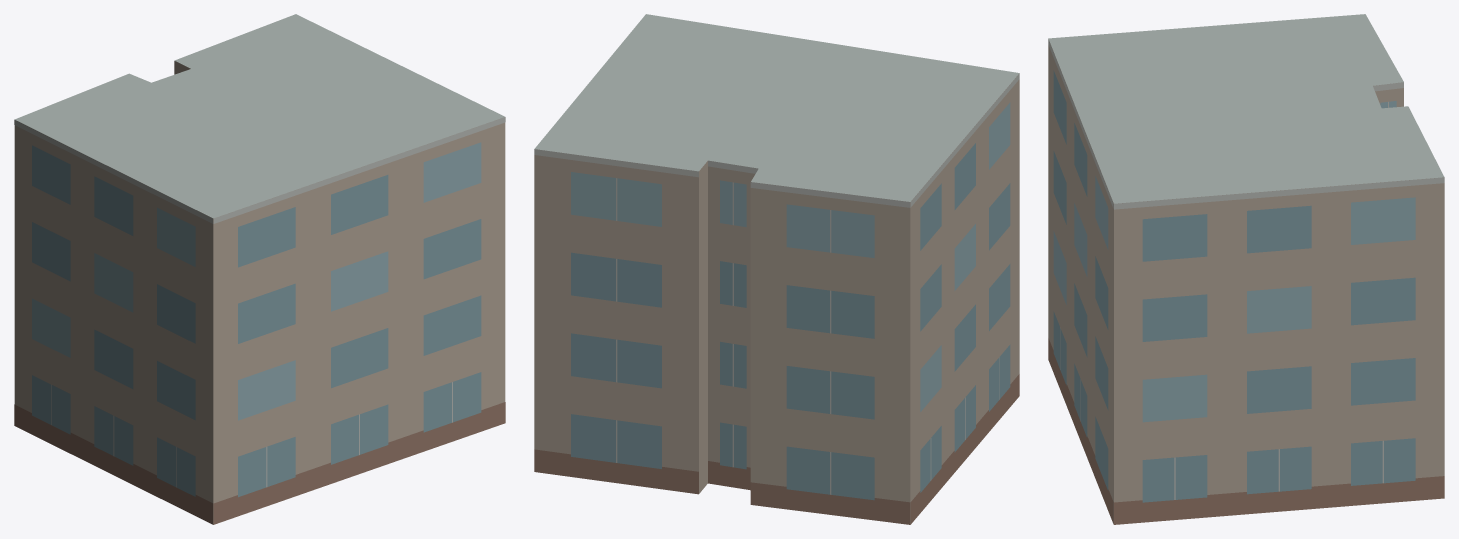
File: survey-upis-32989386.glb
3 views of the same model, side by side, from view 1: azimuth 30°, elevation 25°; view 2: azimuth 150°, elevation 25°; view 3: azimuth 270°, elevation 25° (orthographic). The views are drawn at different scales.
Visible parts, largest first — view 1: survey-upis-32989386.tmp; view 2: survey-upis-32989386.tmp; view 3: survey-upis-32989386.tmp.
Boxes of the visible parts, x1=… form: survey-upis-32989386.tmp: x1=14, y1=14, x2=505, y2=524; survey-upis-32989386.tmp: x1=534, y1=14, x2=1019, y2=524; survey-upis-32989386.tmp: x1=1048, y1=14, x2=1444, y2=524.
Size of the model in its own units: 16.99 by 13.4 by 15.
